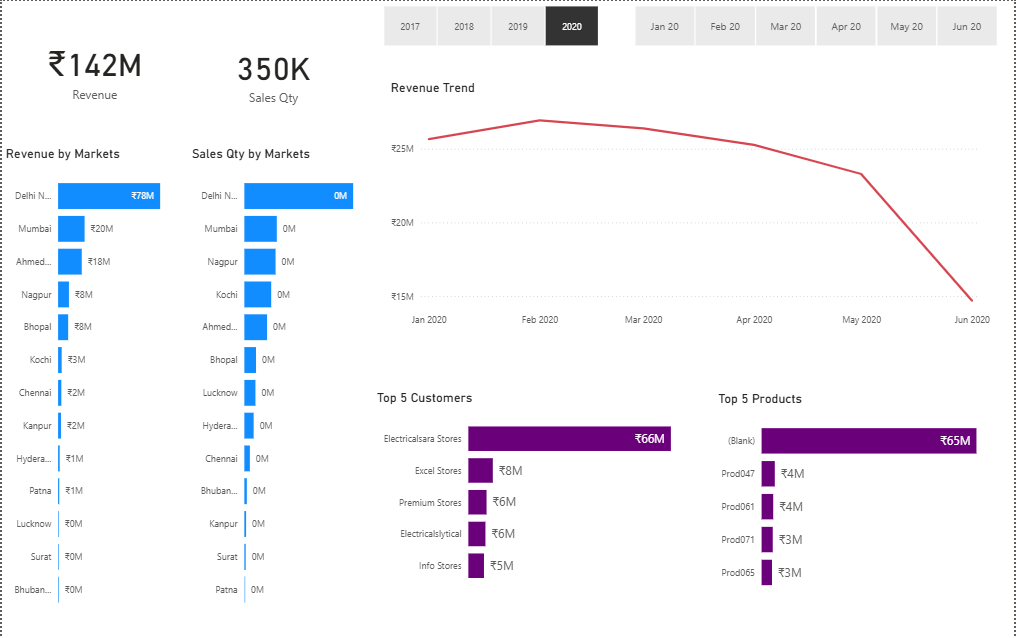

Layout of this report page (visuals, bound fields, positions):
{"tool":"powerbi","page":{"name":"Key Insights","canvas":[1350,850],"ordinal":0},"visuals":[{"type":"card","fields":{"Values":["BaseMeasures (2).Revenue"]},"box":[0,0,247.9,184.6],"z":0},{"type":"card","fields":{"Values":["BaseMeasures (2).Sales Qty"]},"box":[247.9,0,227.9,193.1],"z":1000},{"type":"barChart","title":"Revenue by Markets","fields":{"Y":["BaseMeasures (2).Revenue"],"Category":["sales markets.markets_name"]},"box":[0,193.1,247.9,631.9],"z":2000},{"type":"barChart","title":"Sales Qty by Markets","fields":{"Y":["BaseMeasures (2).Sales Qty"],"Category":["sales markets.markets_name"]},"box":[247.9,193.1,247.9,631.9],"z":3000},{"type":"slicer","fields":{"Values":["sales date.year"]},"box":[483.2,0,335.5,66.5],"z":4000},{"type":"slicer","fields":{"Values":["sales date.cy_date"]},"box":[818.6,0,531.7,66.5],"z":5000},{"type":"barChart","title":"Top 5 Customers","fields":{"Y":["BaseMeasures (2).Revenue"],"Category":["sales customers.custmer_name"]},"box":[495.8,519,446.2,274.3],"z":6000},{"type":"barChart","title":"Top 5 Products","fields":{"Y":["BaseMeasures (2).Revenue"],"Category":["sales products.product_code"]},"box":[950.7,519.2,399.5,282.8],"z":7000},{"type":"lineChart","title":"Revenue Trend","fields":{"Y":["BaseMeasures (2).Revenue"],"Category":["sales date.cy_date"]},"box":[513.8,104.4,809.1,338.6],"z":8000}]}

Visuals, with their boxes in screenshot pixels (x1, y1, x2, y2), scaled from the page's 1350x850 canvas onto the 1016x638 screenshot:
card - BaseMeasures (2).Revenue: 0 0 187 139
card - BaseMeasures (2).Sales Qty: 187 0 358 145
"Revenue by Markets" barChart: 0 145 187 619
"Sales Qty by Markets" barChart: 187 145 373 619
slicer - sales date.year: 364 0 616 50
slicer - sales date.cy_date: 616 0 1015 50
"Top 5 Customers" barChart: 373 390 709 595
"Top 5 Products" barChart: 715 390 1015 602
"Revenue Trend" lineChart: 387 78 996 333
